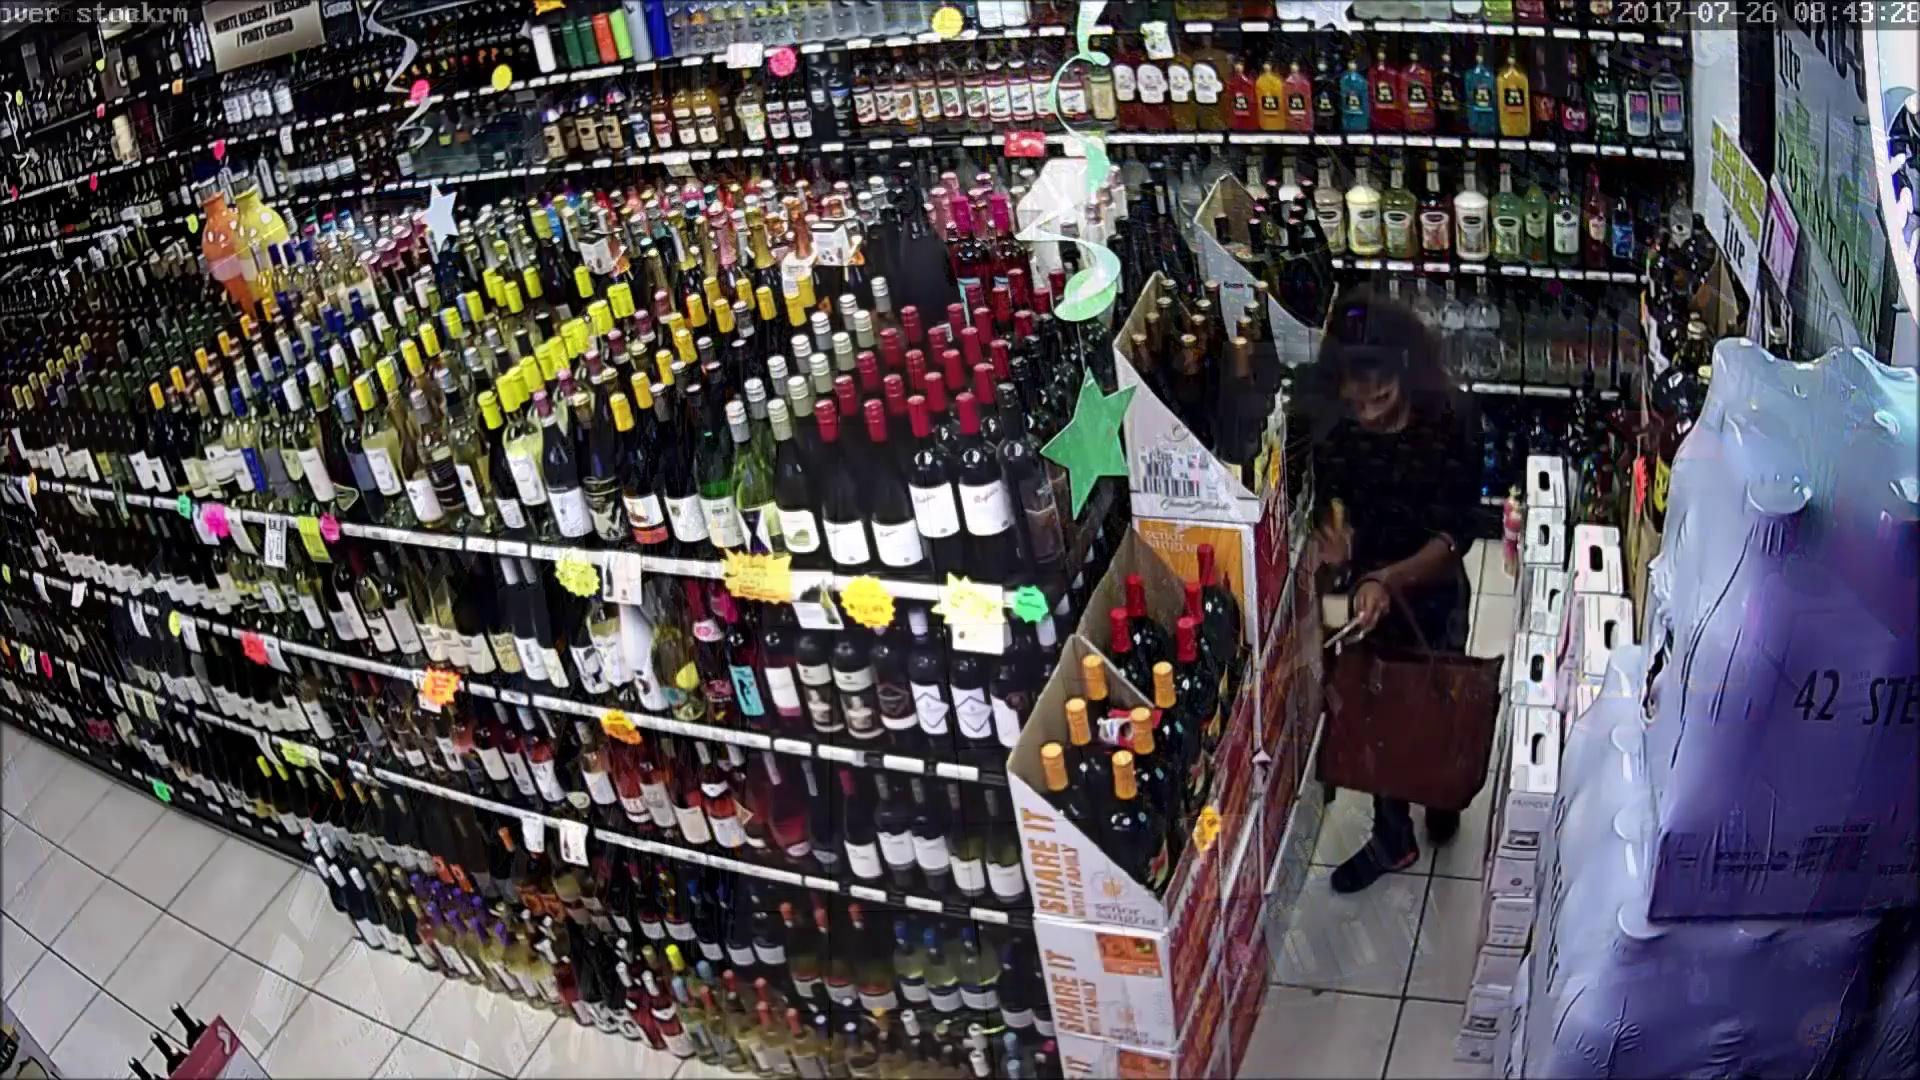Customer-Bagpack: (1321, 634, 1503, 823)
Product: (1303, 502, 1367, 657)
Product-Picked: (1230, 290, 1573, 931)
